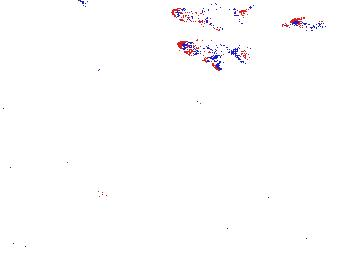X-ray fish: (152, 132, 228, 169), (29, 161, 106, 197)
red belly glassfish: (293, 15, 321, 32), (277, 20, 303, 34)
redtail glassfish: (176, 37, 252, 73), (171, 4, 257, 32)
